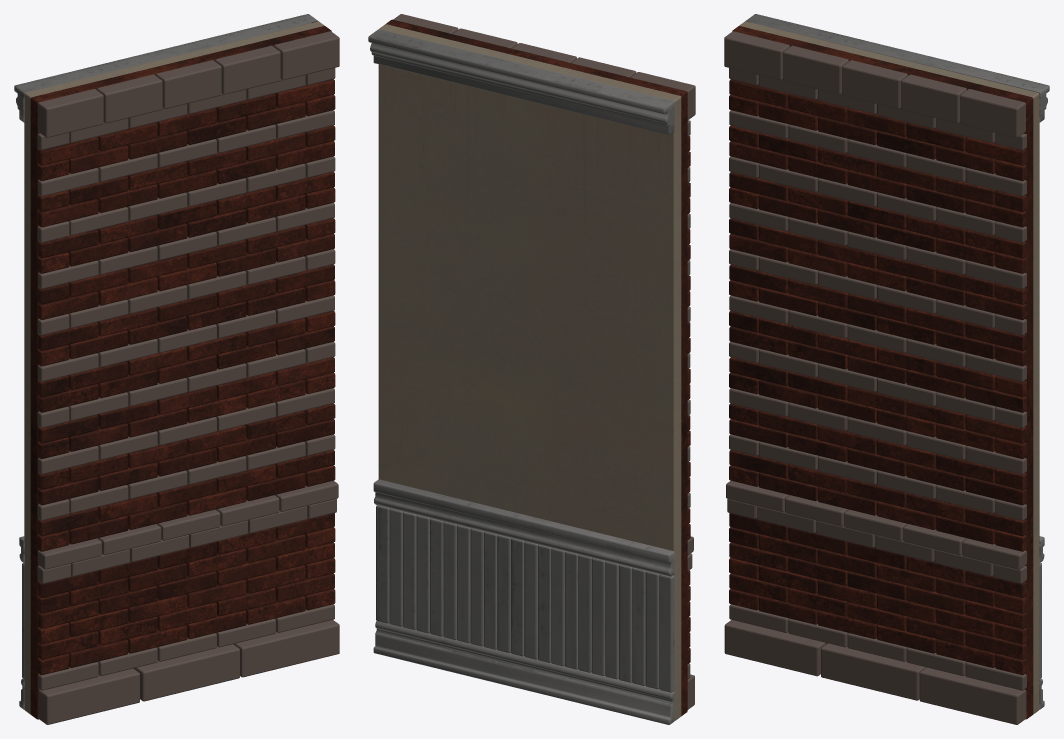
Rendered from SK4 WALL 1.fbx.
3 views of the same model, side by side, from view 1: azimuth 30°, elevation 25°; view 2: azimuth 150°, elevation 25°; view 3: azimuth 330°, elevation 25° (orthographic).
Visible parts, largest first — view 1: SK4 WALL 1; view 2: SK4 WALL 1; view 3: SK4 WALL 1.
Boxes of the visible parts, box(x1,y1,x2,y2) form: SK4 WALL 1: box(14, 14, 339, 724); SK4 WALL 1: box(368, 14, 695, 724); SK4 WALL 1: box(724, 14, 1049, 724).
Bounding box in the file's own units: 200 × 400 × 37.92.
